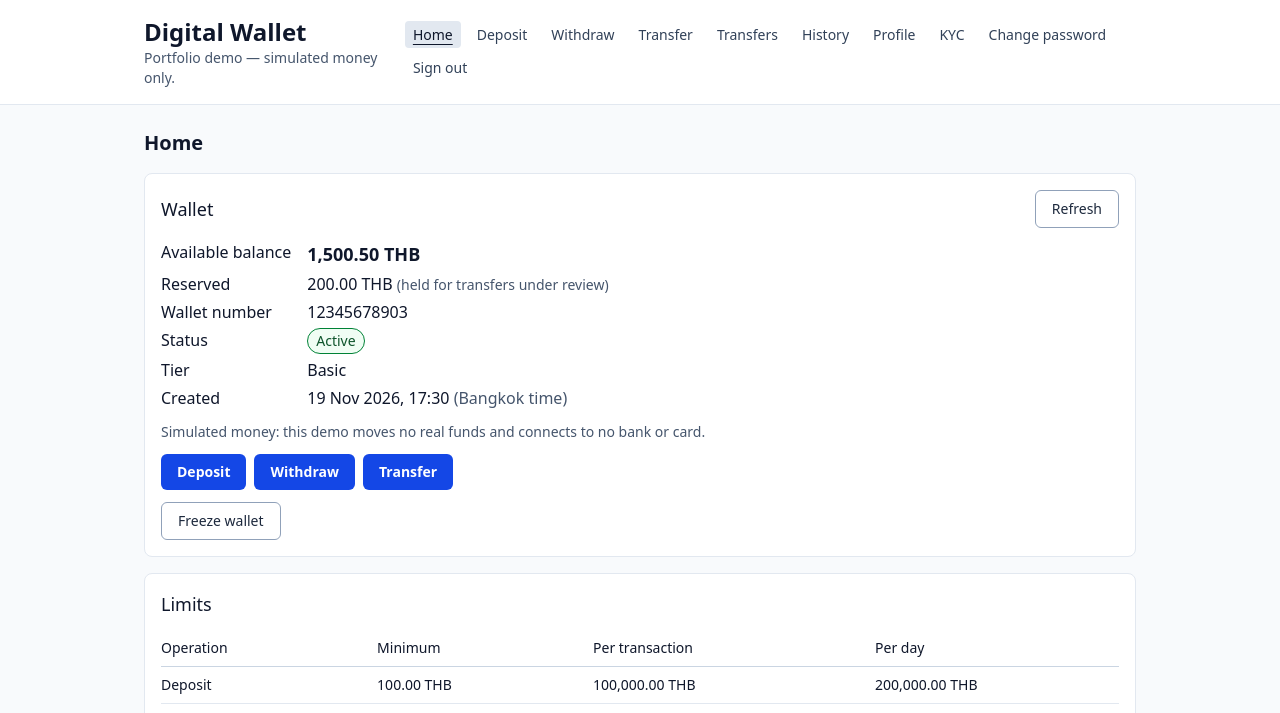
Scenario: WalletDashboard freeze › closes the confirmation on Escape
Check: the text "12345678903" is shown, box x1=307 y1=301 x2=408 y2=323
Step 1. Click the button "Freeze wallet" → (221, 521), box x1=161 y1=502 x2=281 y2=540
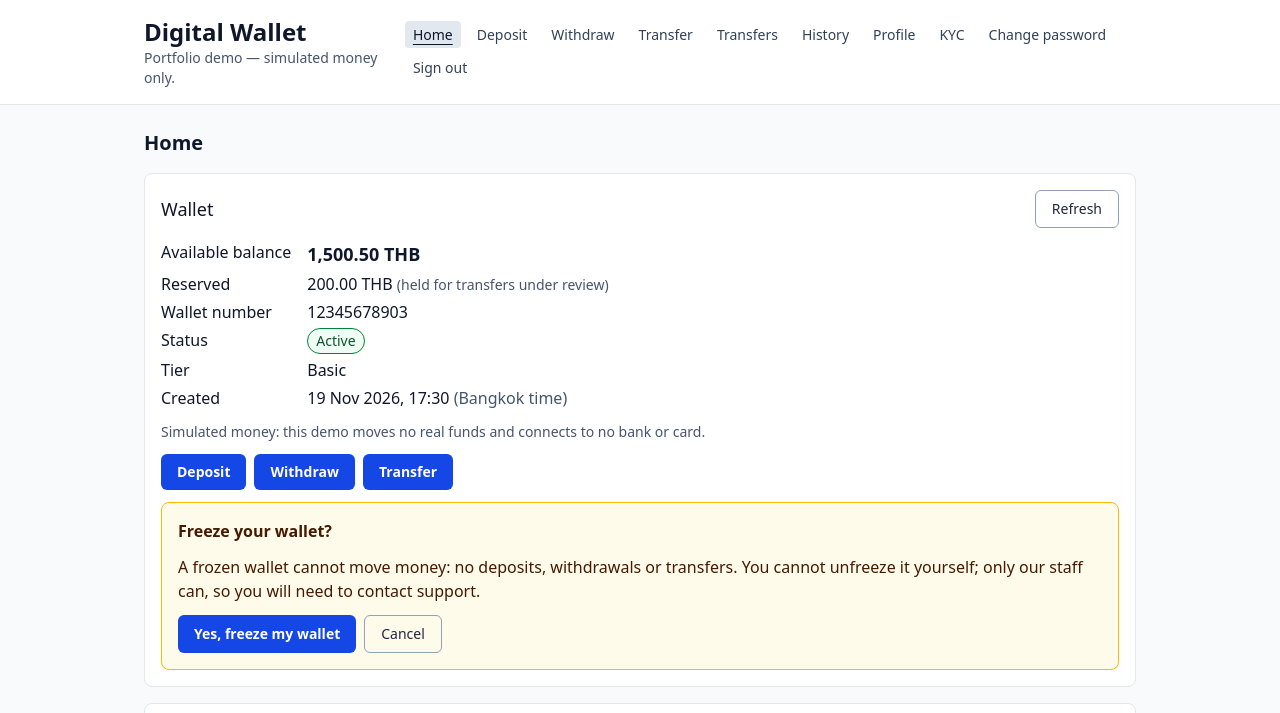
Step 2. Press Escape
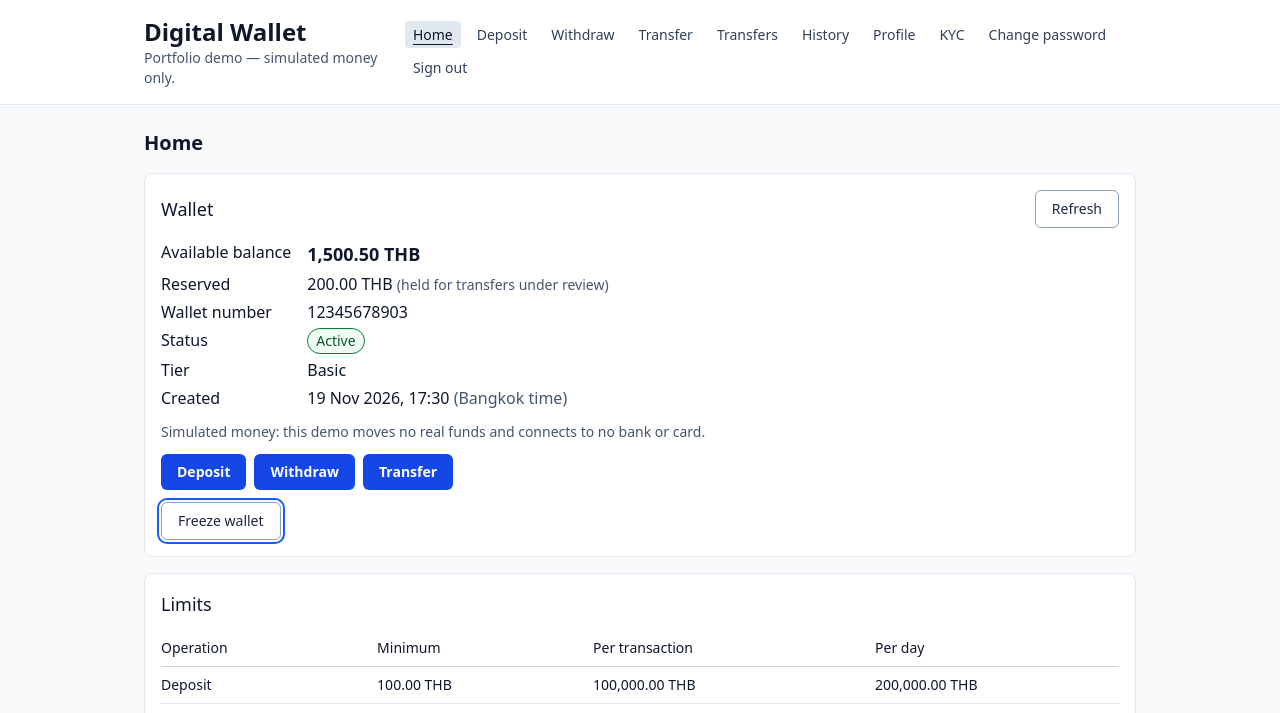
Check: the heading "Freeze your wallet?" is gone
